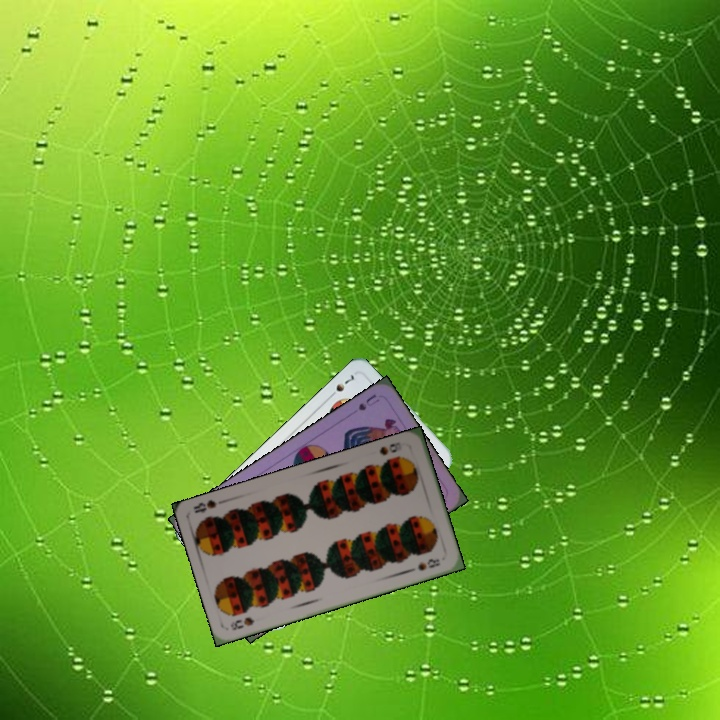S7: (325, 370, 357, 401)
S8: (226, 613, 257, 633), (375, 439, 399, 458)
SU: (354, 390, 382, 413)
